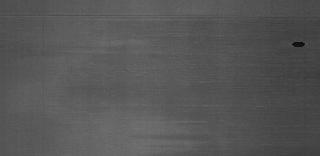punching hole: (290, 42, 306, 48)
welding line: (2, 7, 316, 23)
